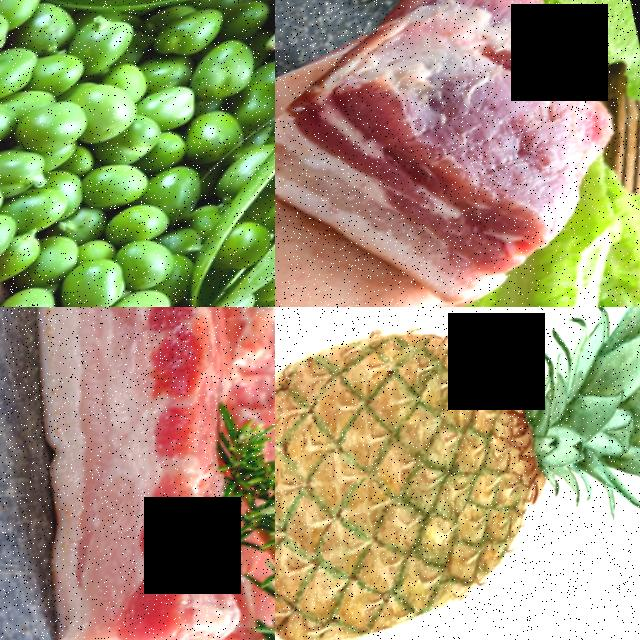peas: (0, 0, 271, 272), (0, 188, 241, 307)
pineapple: (275, 307, 640, 640)
pork belly: (275, 0, 640, 307), (0, 307, 275, 640)
